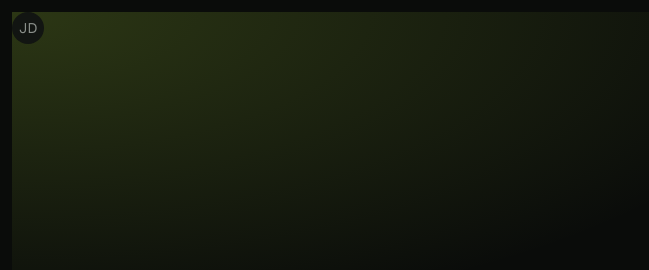
it: UserMenu › opens from the avatar and shows Log out
Expected: the menu item "Log out" is not shown
Click the button with aria-label "Account menu": (28,28) 12,12 -> 44,44
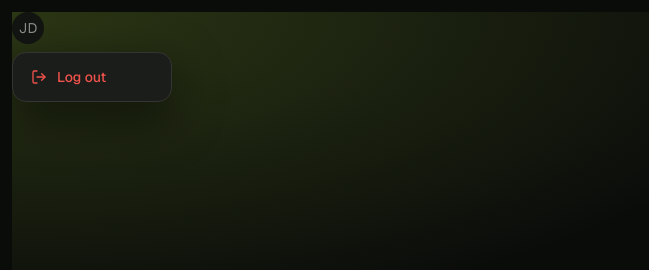
Result: the menu item "Log out" is shown at 31,68 -> 106,86
